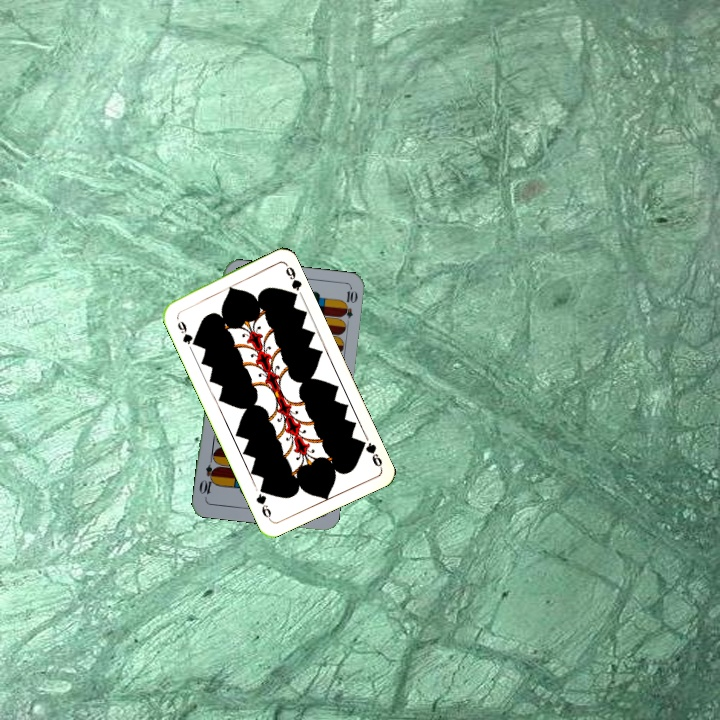G9: (355, 436, 385, 471), (172, 312, 199, 348)
